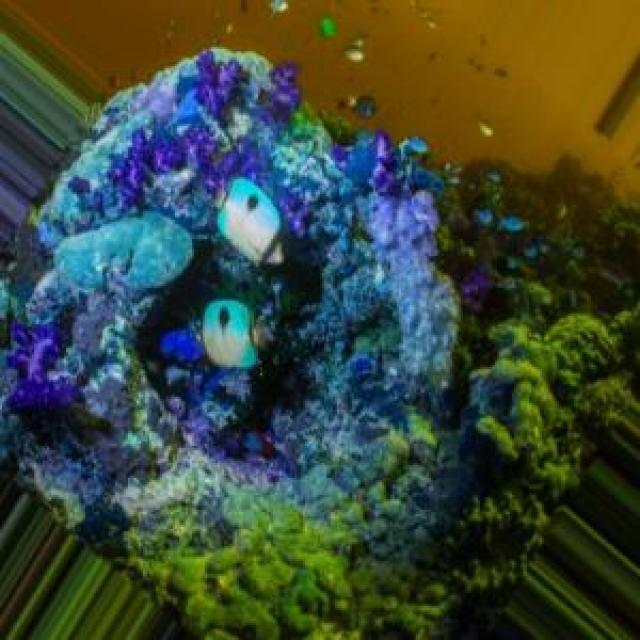Healthy: (1, 50, 526, 573)
